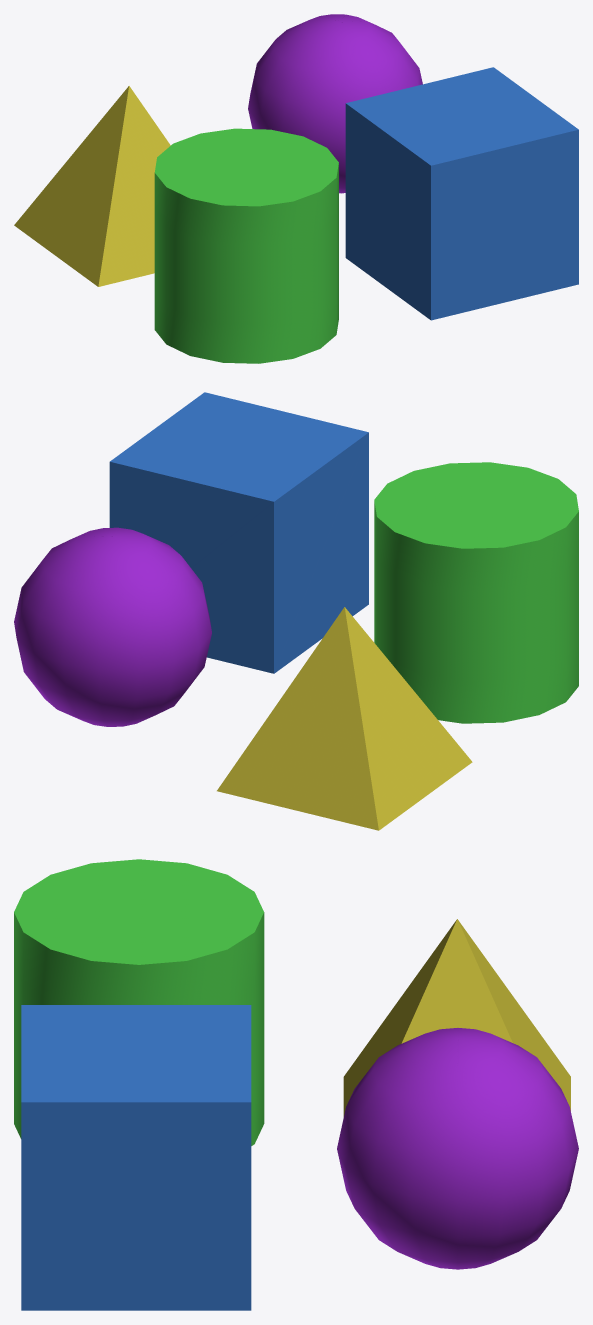
Rendered from Mebel.gltf.
The picture shows the model from 3 angles, top to bottom: view 1: azimuth 30°, elevation 25°; view 2: azimuth 150°, elevation 25°; view 3: azimuth 270°, elevation 25°; orthographic projection. The views are drawn at different scales.
Parts seen in each view (by area): view 1: d, p, t, m; view 2: d, p, m, t; view 3: d, m, p, t.
Boxes of the visible parts, x1=… form: d: x1=345, y1=67, x2=578, y2=320; p: x1=154, y1=128, x2=338, y2=363; t: x1=14, y1=86, x2=170, y2=286; m: x1=248, y1=14, x2=422, y2=193; d: x1=109, y1=392, x2=368, y2=673; p: x1=374, y1=462, x2=578, y2=723; m: x1=14, y1=527, x2=211, y2=726; t: x1=217, y1=607, x2=472, y2=830; d: x1=21, y1=1005, x2=251, y2=1310; m: x1=337, y1=1028, x2=578, y2=1269; p: x1=14, y1=859, x2=264, y2=1145; t: x1=343, y1=919, x2=570, y2=1116.
Bounding box in the file's own units: 241 × 103 × 238.
Materials: 4 (4 with a texture image).
